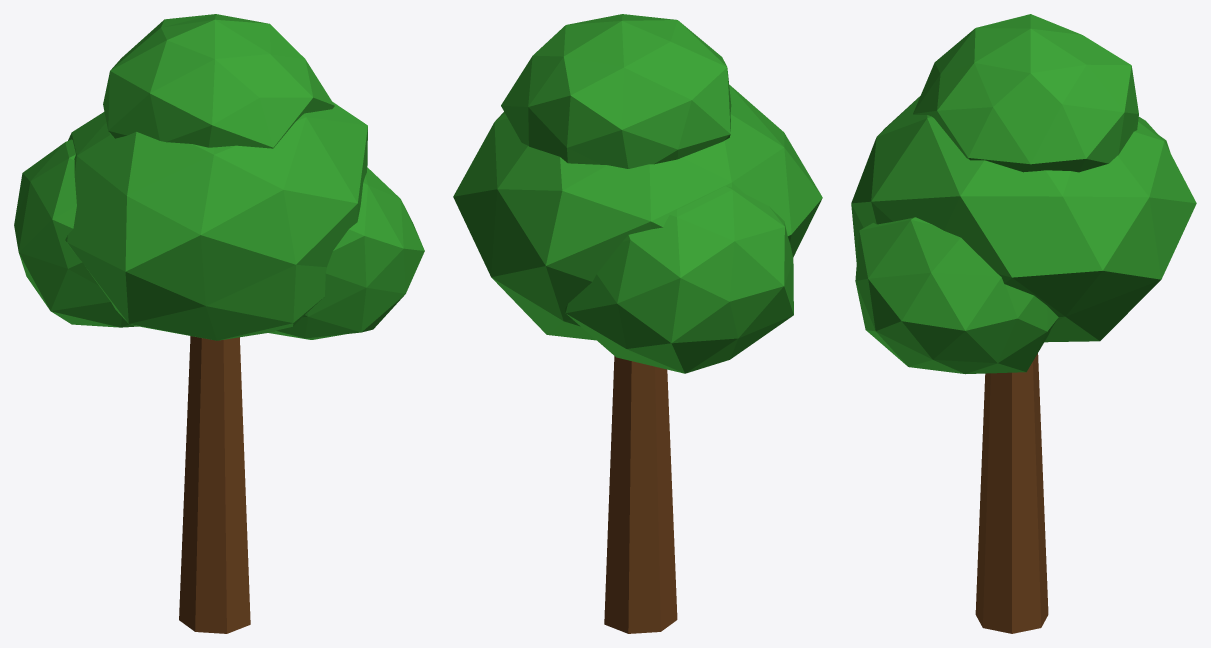
File: tree.glb
The picture shows the model from 3 angles, left to right: view 1: azimuth 30°, elevation 25°; view 2: azimuth 150°, elevation 25°; view 3: azimuth 270°, elevation 25°; orthographic projection. The views are drawn at different scales.
Visible parts, largest first — view 1: tree; view 2: tree; view 3: tree.
Part boxes in pixels (x1,y1,x2,y2): tree: (14, 14, 424, 633); tree: (453, 14, 822, 633); tree: (851, 14, 1196, 633).
Bounding box in the file's own units: 4.26 × 7.01 × 3.7.
